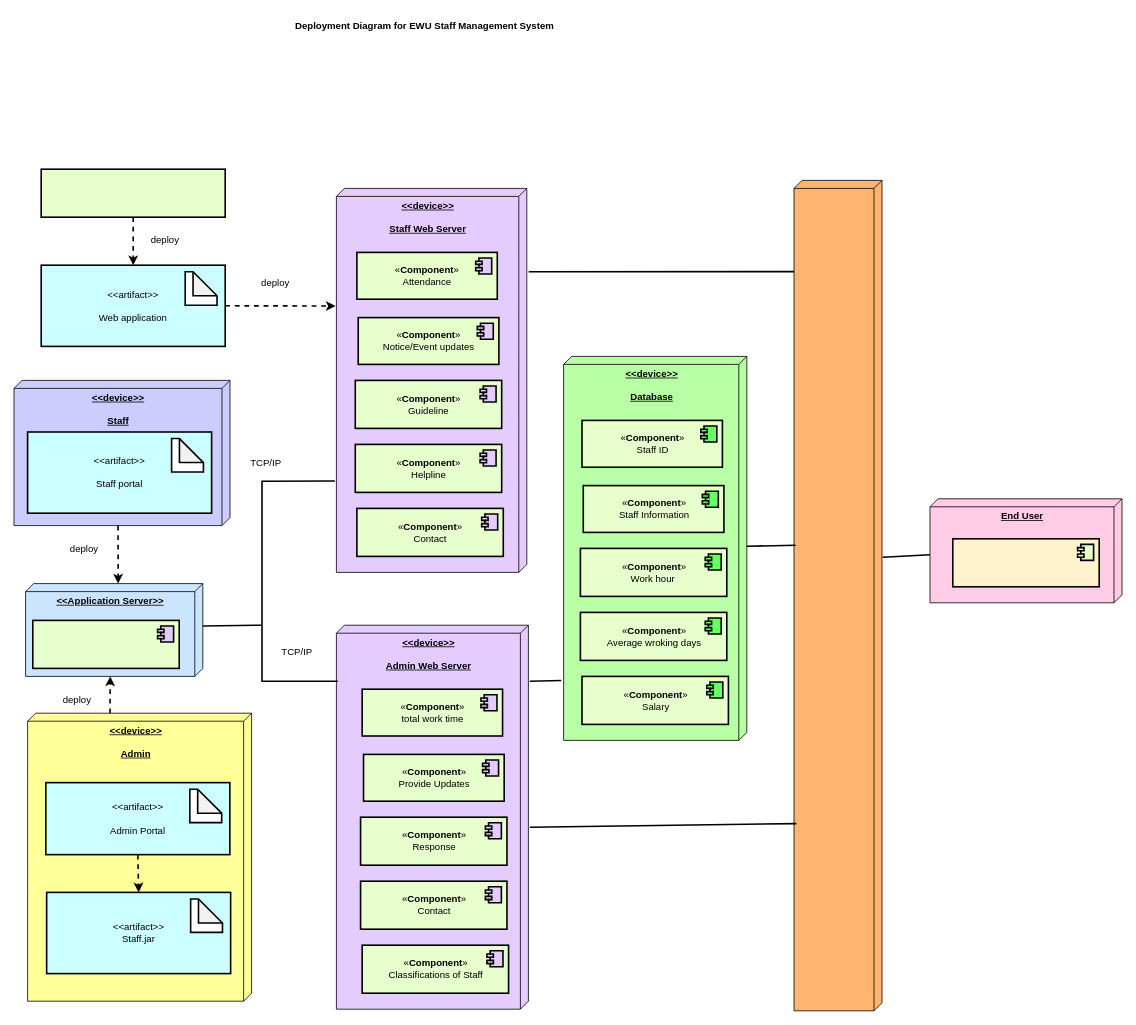
Image size: 1136x1025. Some labels were removed from this diagram. Each missing label, with the centre of its shape:
"<<deployment spec>> Web deployment specification" belongs at point 133,193.
"<<device>> Firewall" belongs at point 837,595.
"« Component » Authentication" belongs at point 106,644.
"« Component » Browser" belongs at point 1026,562.
